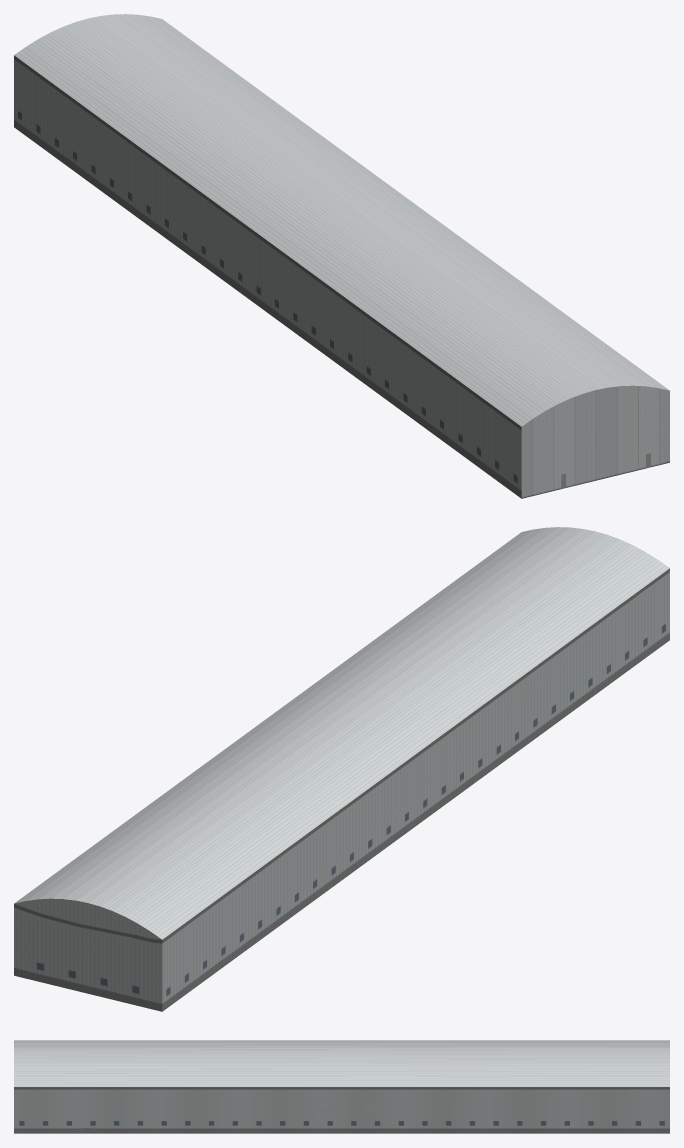
File: khsv_hangar_28x166.glb
3 renders of one model, top to bottom at view 1: azimuth 30°, elevation 25°; view 2: azimuth 150°, elevation 25°; view 3: azimuth 270°, elevation 25°, orthographic. The views are drawn at different scales.
Visible parts, largest first — view 1: khsv_hangar_28x166_hangar_roof, khsv_hangar_28x166_hangar_wall, khsv_hangar_28x166_hangar_door; view 2: khsv_hangar_28x166_hangar_roof, khsv_hangar_28x166_hangar_wall; view 3: khsv_hangar_28x166_hangar_roof, khsv_hangar_28x166_hangar_wall.
Part boxes in pixels (x1,y1,x2,y2): khsv_hangar_28x166_hangar_roof: [14, 14, 669, 426]; khsv_hangar_28x166_hangar_wall: [14, 55, 521, 498]; khsv_hangar_28x166_hangar_door: [521, 385, 669, 498]; khsv_hangar_28x166_hangar_roof: [14, 527, 669, 939]; khsv_hangar_28x166_hangar_wall: [14, 568, 669, 1011]; khsv_hangar_28x166_hangar_roof: [14, 1040, 669, 1086]; khsv_hangar_28x166_hangar_wall: [14, 1087, 669, 1133].
Size of the model in its own units: 28 by 16.36 by 166.
Materials: 3 (3 with a texture image).
